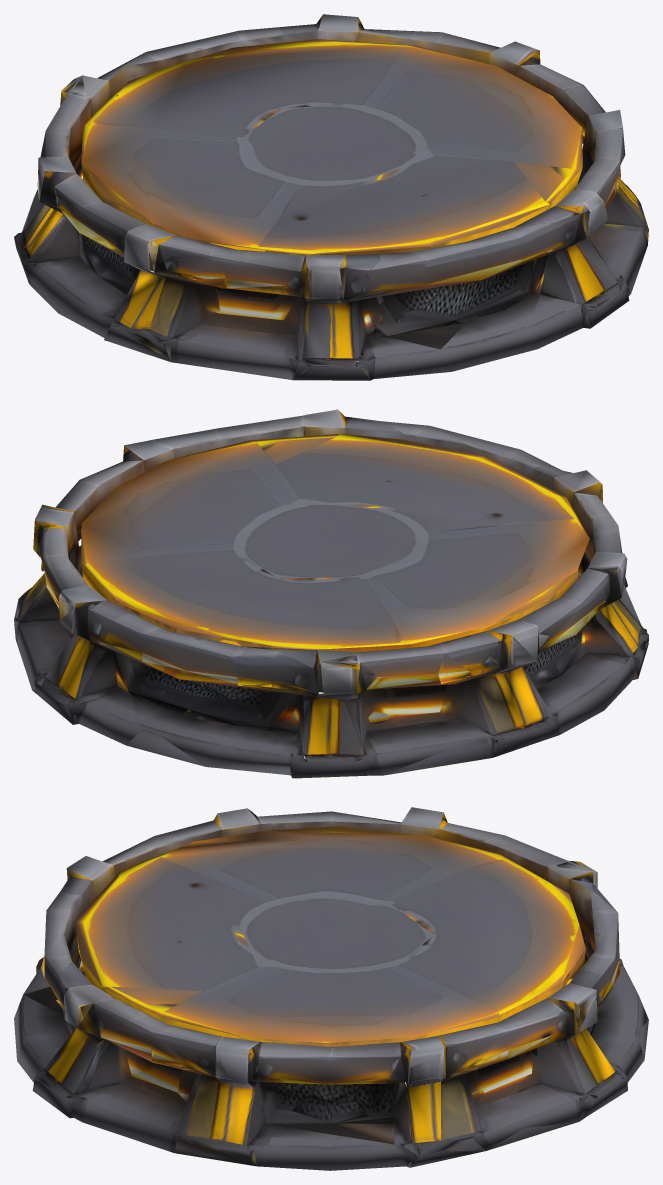
File: PlayPad.fbx
3 views of the same model, one above another, from view 1: azimuth 30°, elevation 25°; view 2: azimuth 150°, elevation 25°; view 3: azimuth 270°, elevation 25° (orthographic).
Visible parts, largest first — view 1: node_0; view 2: node_0; view 3: node_0.
Boxes of the visible parts, box(x1,y1,x2,y2) form: node_0: box(14, 14, 648, 380); node_0: box(14, 409, 648, 778); node_0: box(14, 807, 648, 1170).
Size of the model in its own units: 115 by 21.87 by 115.
Materials: 1 (1 with a texture image).
